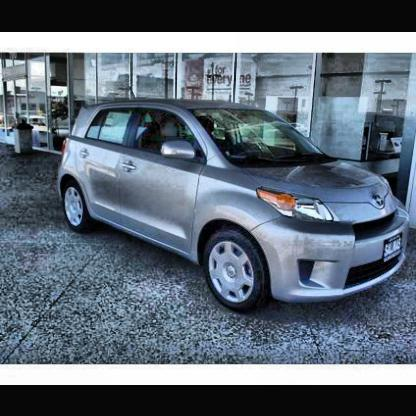Scion xD Hatchback 2012: (56, 98, 413, 310)
